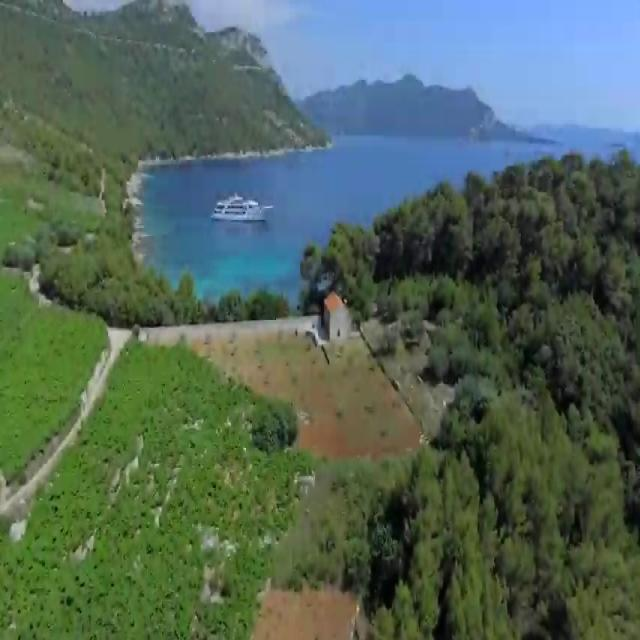passenger ship: (212, 187, 273, 226)
